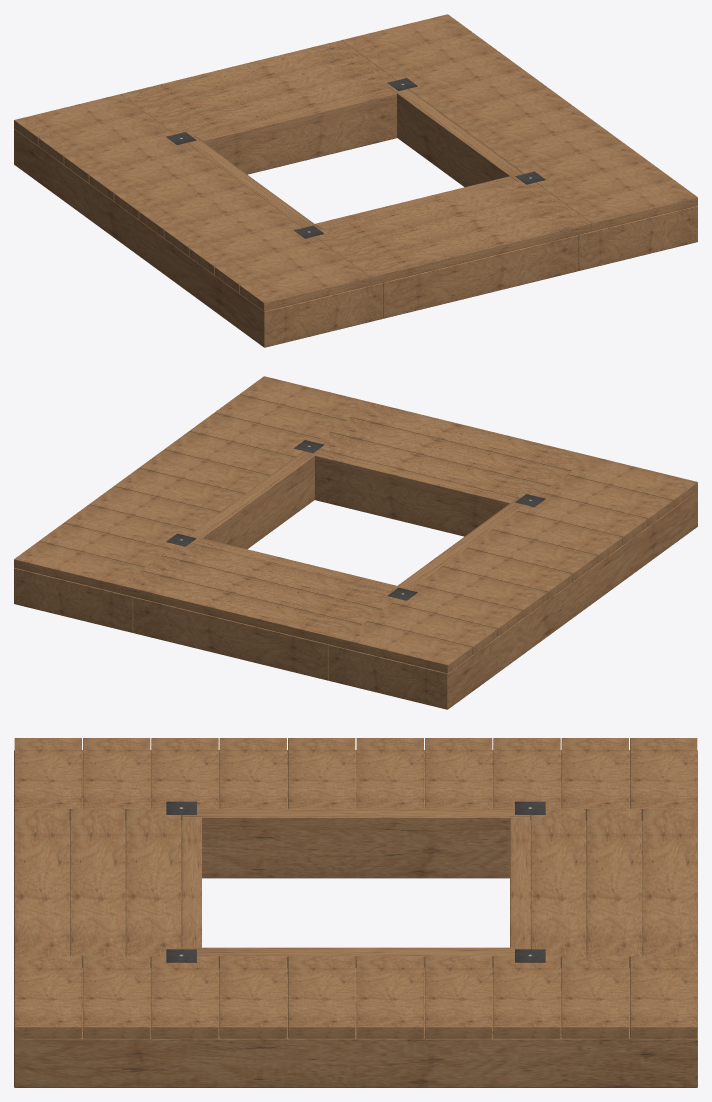
The model's file is SM_FacilityRooms_WoodHatchLanding200.fbx.
The picture shows the model from 3 angles, top to bottom: view 1: azimuth 30°, elevation 25°; view 2: azimuth 150°, elevation 25°; view 3: azimuth 270°, elevation 25°; orthographic projection. The views are drawn at different scales.
Visible parts, largest first — view 1: SM_FacilityRooms_WoodHatchLanding200; view 2: SM_FacilityRooms_WoodHatchLanding200; view 3: SM_FacilityRooms_WoodHatchLanding200.
Boxes of the visible parts, bbox=[...] form: SM_FacilityRooms_WoodHatchLanding200: bbox=[14, 14, 697, 347]; SM_FacilityRooms_WoodHatchLanding200: bbox=[14, 376, 697, 709]; SM_FacilityRooms_WoodHatchLanding200: bbox=[14, 738, 697, 1087].
Size of what is drawn, in the model's own units: 200 by 200 by 20.
